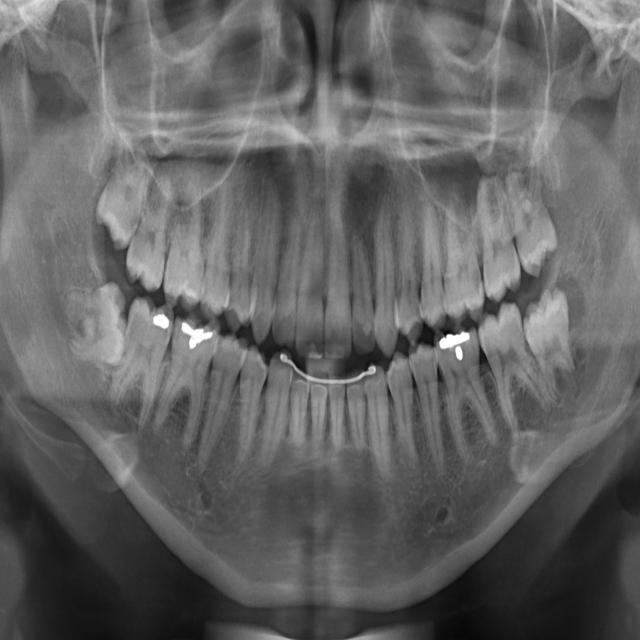AmalgamRestoration: (438, 324, 476, 365), (182, 318, 216, 356), (153, 304, 170, 329)
DentalCaries: (467, 260, 484, 311), (171, 316, 183, 371), (412, 286, 424, 334), (436, 281, 449, 324), (427, 347, 438, 396), (162, 328, 172, 353)
